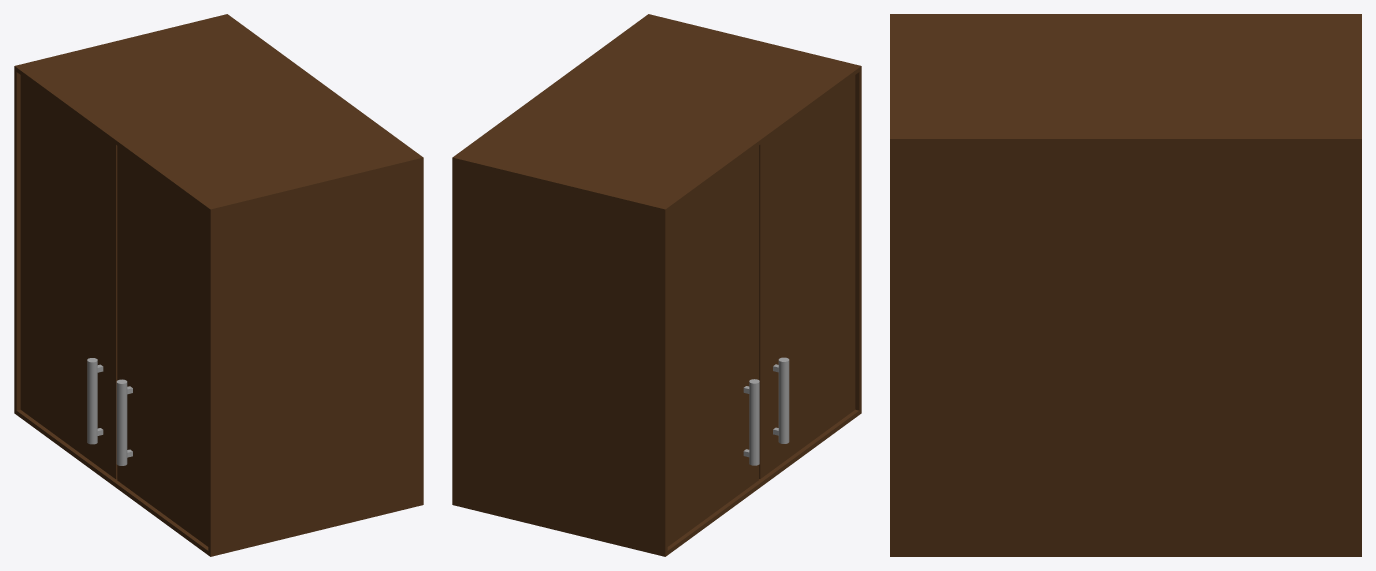
File: Top 1.fbx
The picture shows the model from 3 angles, left to right: view 1: azimuth 30°, elevation 25°; view 2: azimuth 150°, elevation 25°; view 3: azimuth 270°, elevation 25°; orthographic projection. The views are drawn at different scales.
Visible parts, largest first — view 1: Top 1; view 2: Top 1; view 3: Top 1.
Boxes of the visible parts, box(x1,y1,x2,y2) form: Top 1: box(14, 14, 423, 556); Top 1: box(452, 14, 861, 556); Top 1: box(890, 14, 1361, 556).
Size of the model in its own units: 65.69 by 97.77 by 100.
